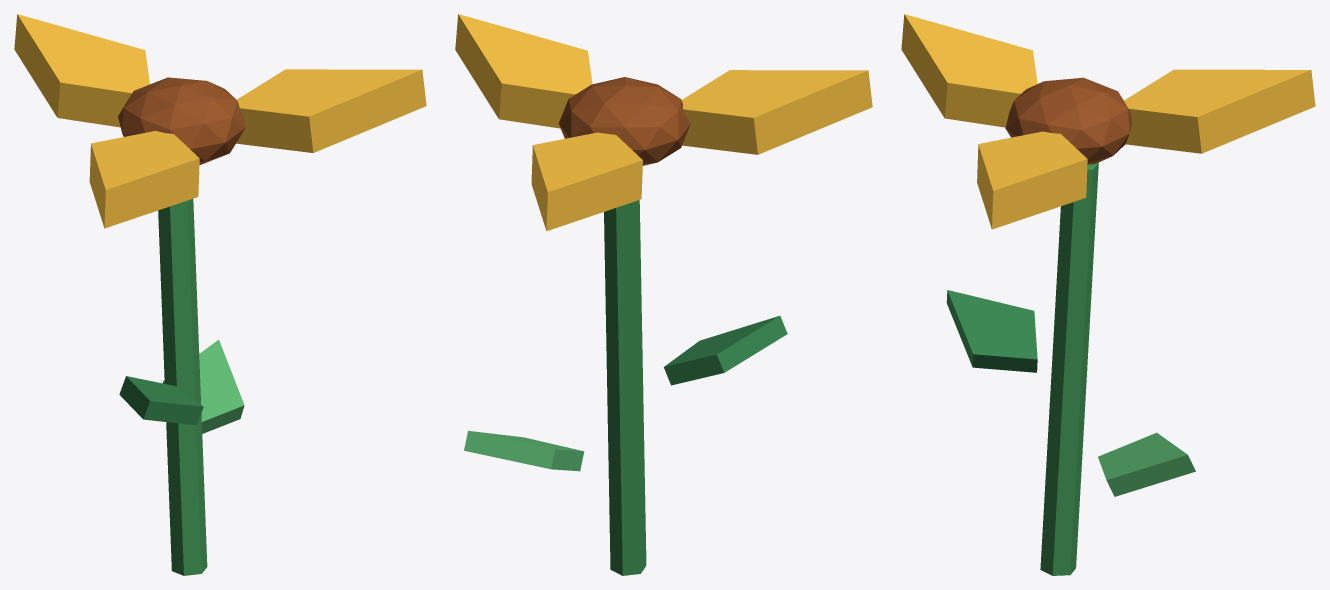
Rendered from MiniFlower_3Petal_Yellow.glb.
3 views of the same model, side by side, from view 1: azimuth 30°, elevation 25°; view 2: azimuth 150°, elevation 25°; view 3: azimuth 270°, elevation 25° (orthographic).
Parts seen in each view (by area): view 1: MiniFlower_3Petal_Yellow Stem, MiniFlower_3Petal_Yellow Petal 3, MiniFlower_3Petal_Yellow Petal 1, MiniFlower_3Petal_Yellow Petal 2, MiniFlower_3Petal_Yellow Center, MiniFlower_3Petal_Yellow Leaf 1, MiniFlower_3Petal_Yellow Leaf -1; view 2: MiniFlower_3Petal_Yellow Stem, MiniFlower_3Petal_Yellow Petal 2, MiniFlower_3Petal_Yellow Petal 3, MiniFlower_3Petal_Yellow Petal 1, MiniFlower_3Petal_Yellow Center, MiniFlower_3Petal_Yellow Leaf -1, MiniFlower_3Petal_Yellow Leaf 1; view 3: MiniFlower_3Petal_Yellow Stem, MiniFlower_3Petal_Yellow Petal 1, MiniFlower_3Petal_Yellow Petal 2, MiniFlower_3Petal_Yellow Petal 3, MiniFlower_3Petal_Yellow Center, MiniFlower_3Petal_Yellow Leaf -1, MiniFlower_3Petal_Yellow Leaf 1.
Boxes of the visible parts, left/top/right/bottom form: MiniFlower_3Petal_Yellow Stem: left=158, top=199, right=207, bottom=575; MiniFlower_3Petal_Yellow Petal 3: left=236, top=69, right=426, bottom=152; MiniFlower_3Petal_Yellow Petal 1: left=14, top=14, right=149, bottom=127; MiniFlower_3Petal_Yellow Petal 2: left=89, top=131, right=199, bottom=228; MiniFlower_3Petal_Yellow Center: left=118, top=77, right=245, bottom=164; MiniFlower_3Petal_Yellow Leaf 1: left=163, top=339, right=244, bottom=433; MiniFlower_3Petal_Yellow Leaf -1: left=119, top=376, right=203, bottom=425; MiniFlower_3Petal_Yellow Stem: left=604, top=200, right=646, bottom=575; MiniFlower_3Petal_Yellow Petal 2: left=681, top=70, right=872, bottom=154; MiniFlower_3Petal_Yellow Petal 3: left=455, top=14, right=592, bottom=128; MiniFlower_3Petal_Yellow Petal 1: left=531, top=132, right=642, bottom=231; MiniFlower_3Petal_Yellow Center: left=558, top=77, right=690, bottom=165; MiniFlower_3Petal_Yellow Leaf -1: left=664, top=316, right=787, bottom=385; MiniFlower_3Petal_Yellow Leaf 1: left=464, top=430, right=584, bottom=471; MiniFlower_3Petal_Yellow Stem: left=1040, top=162, right=1098, bottom=575; MiniFlower_3Petal_Yellow Petal 1: left=1124, top=69, right=1315, bottom=153; MiniFlower_3Petal_Yellow Petal 2: left=901, top=14, right=1037, bottom=127; MiniFlower_3Petal_Yellow Petal 3: left=977, top=131, right=1087, bottom=229; MiniFlower_3Petal_Yellow Center: left=1005, top=77, right=1132, bottom=164; MiniFlower_3Petal_Yellow Leaf -1: left=946, top=290, right=1037, bottom=372; MiniFlower_3Petal_Yellow Leaf 1: left=1098, top=432, right=1195, bottom=496.
Bounding box in the file's own units: 0.4204 × 0.5265 × 0.4088.
